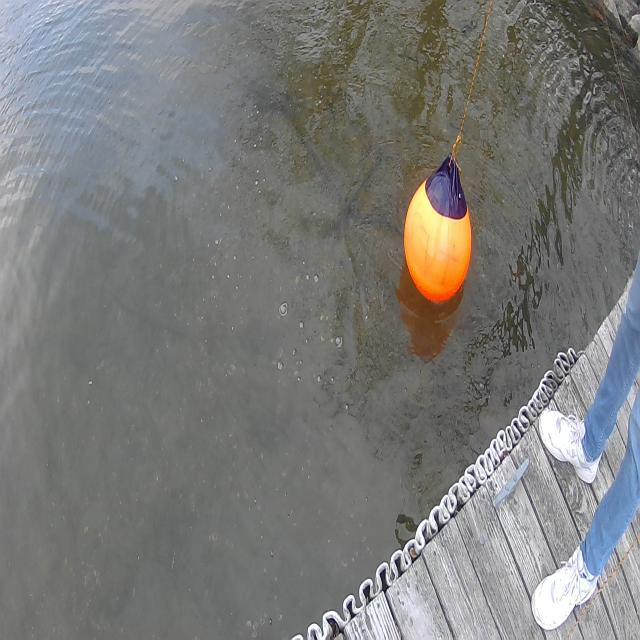Buoy: (400, 150, 477, 321)
